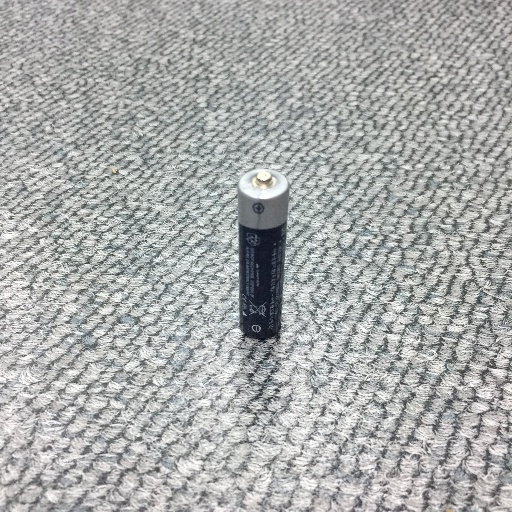Battery_0: (230, 161, 297, 348)
